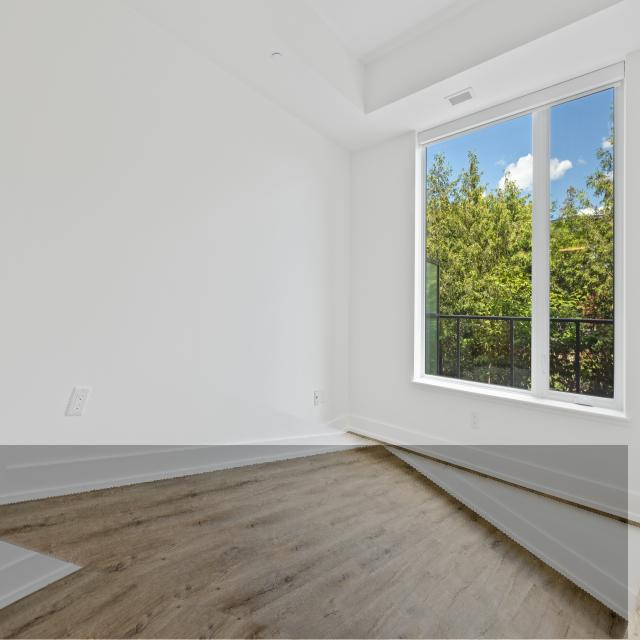floor: (0, 445, 628, 640)
